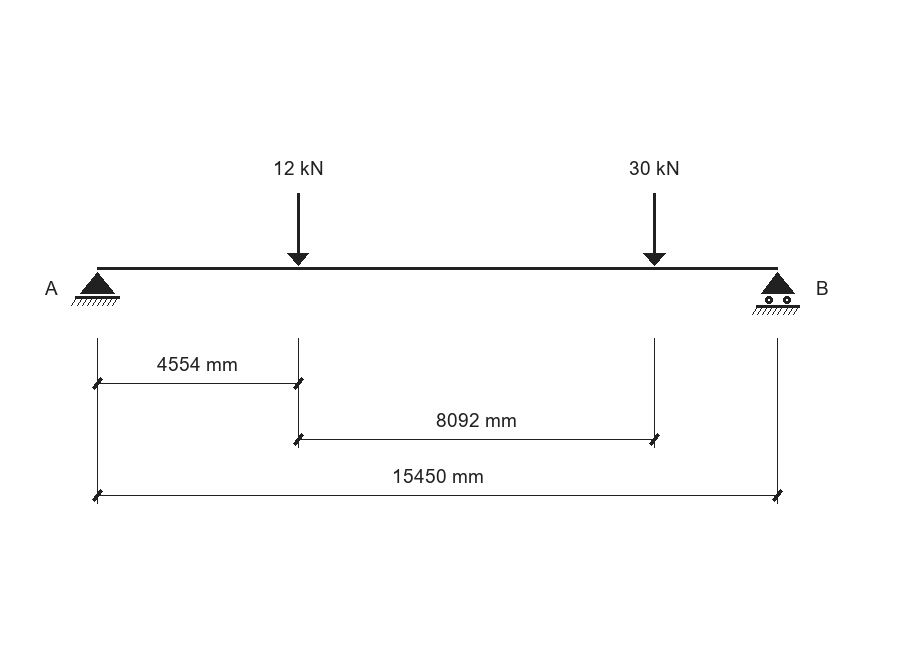pin_support: (71, 272, 120, 306)
point_load: (643, 193, 666, 266), (287, 193, 309, 266)
roller_support: (752, 272, 800, 315)
